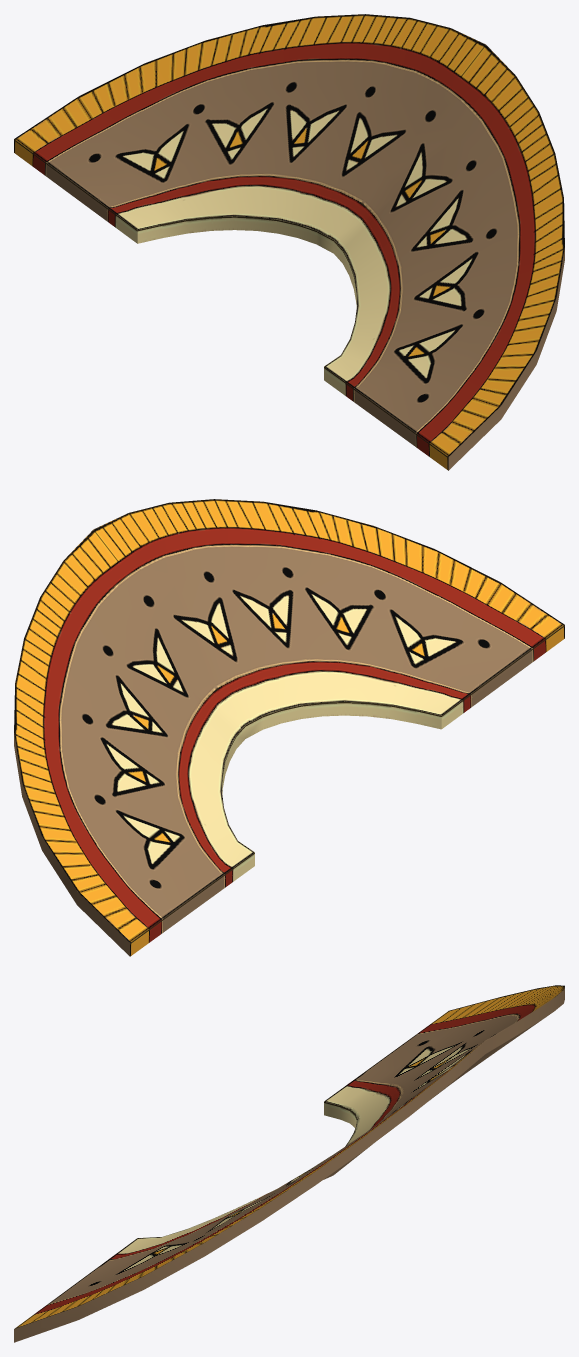
The model's file is egypt_curve.gltf.
The picture shows the model from 3 angles, top to bottom: view 1: azimuth 30°, elevation 25°; view 2: azimuth 150°, elevation 25°; view 3: azimuth 330°, elevation 25°; orthographic projection.
Visible parts, largest first — view 1: egypt_curve_glb; view 2: egypt_curve_glb; view 3: egypt_curve_glb.
Part boxes in pixels (x1,y1,x2,y2): egypt_curve_glb: (14,14,564,470); egypt_curve_glb: (14,499,564,956); egypt_curve_glb: (14,985,564,1342).
Size of what is drawn, in the model's own units: 4.74 by 3.65 by 13.99.
1 material, 1 textured.
